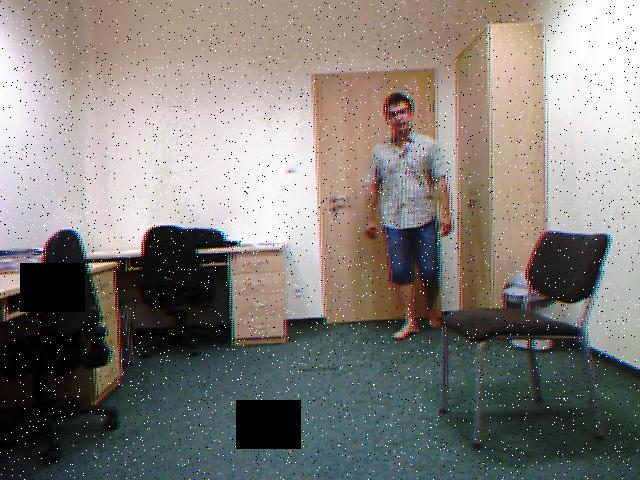standing: (363, 89, 447, 341)
